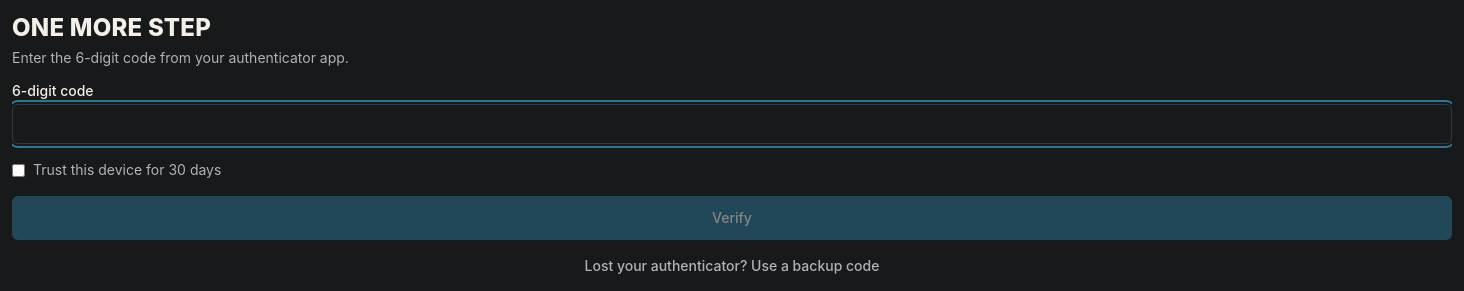
Test: totp mode › strips non-digits and caps at six
In the field labelled "6-digit code": x=732, y=124 x1=12 y1=104 x2=1452 y2=144, type "12 34-56789"
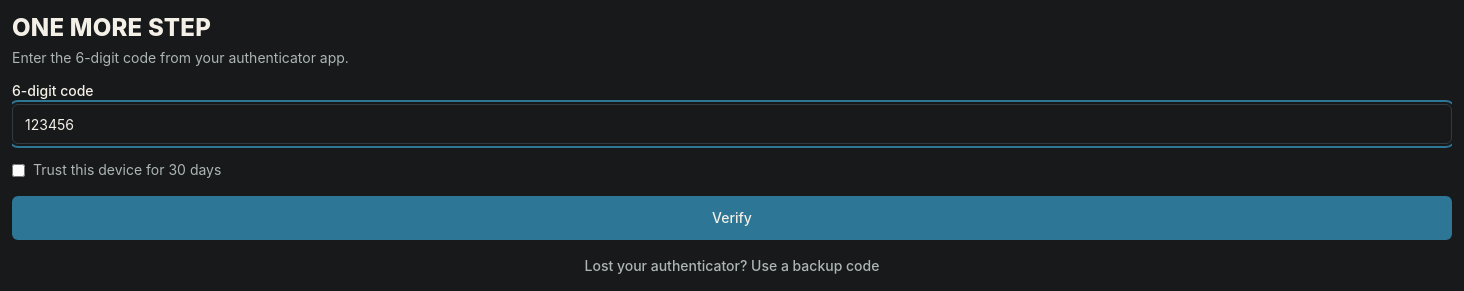
Now the field labelled "6-digit code" holds "123456", box x1=12 y1=104 x2=1452 y2=144
